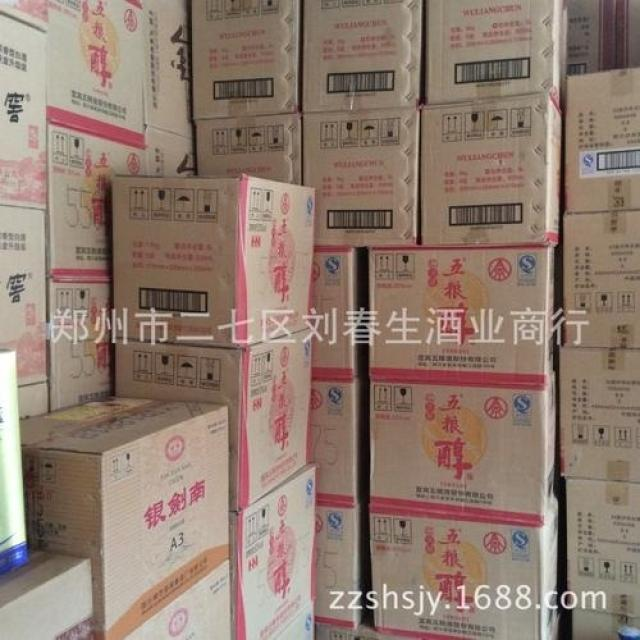box: (21, 395, 231, 638), (112, 327, 312, 512), (112, 174, 315, 345), (367, 477, 568, 639), (368, 369, 558, 525), (369, 244, 561, 385), (421, 91, 566, 247), (301, 104, 421, 247), (421, 3, 570, 116), (48, 122, 148, 281), (228, 461, 316, 639), (46, 3, 147, 147), (300, 1, 423, 112), (192, 1, 301, 119), (563, 67, 639, 214), (560, 346, 639, 486), (563, 477, 639, 617), (562, 209, 639, 347), (1, 12, 48, 208), (1, 205, 50, 386), (1, 545, 93, 638), (50, 281, 113, 412), (193, 111, 302, 184), (127, 561, 230, 638), (0, 347, 32, 575), (145, 1, 195, 140), (308, 380, 358, 506), (316, 505, 365, 630), (312, 246, 356, 381), (568, 0, 617, 75), (146, 123, 196, 175), (569, 607, 639, 639), (0, 0, 46, 32), (616, 2, 639, 66), (278, 604, 315, 639), (316, 613, 366, 638), (371, 628, 418, 638)
